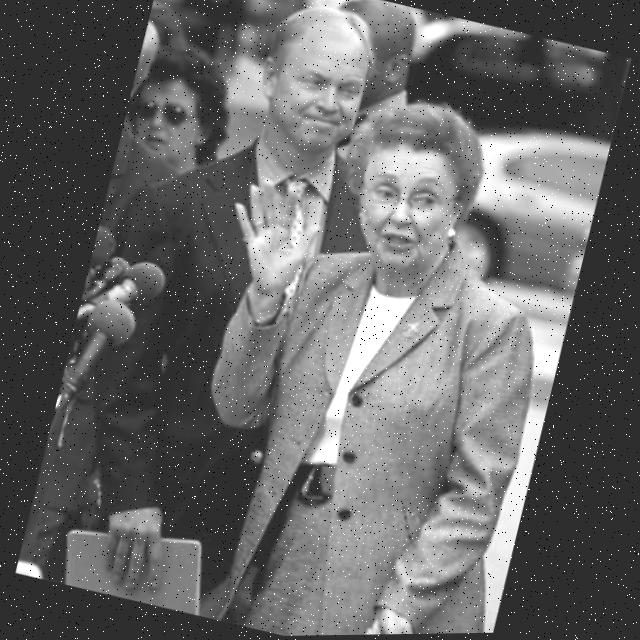face: (244, 4, 383, 165), (335, 133, 476, 291), (119, 51, 241, 181)
